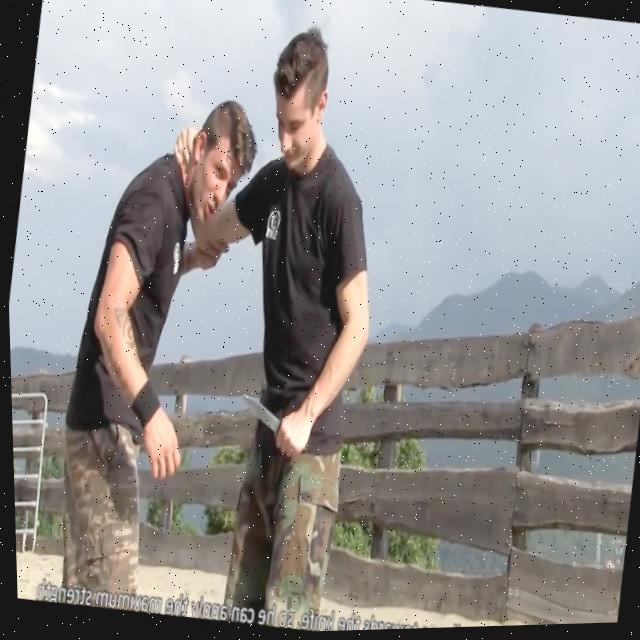knife: (229, 385, 286, 440)
